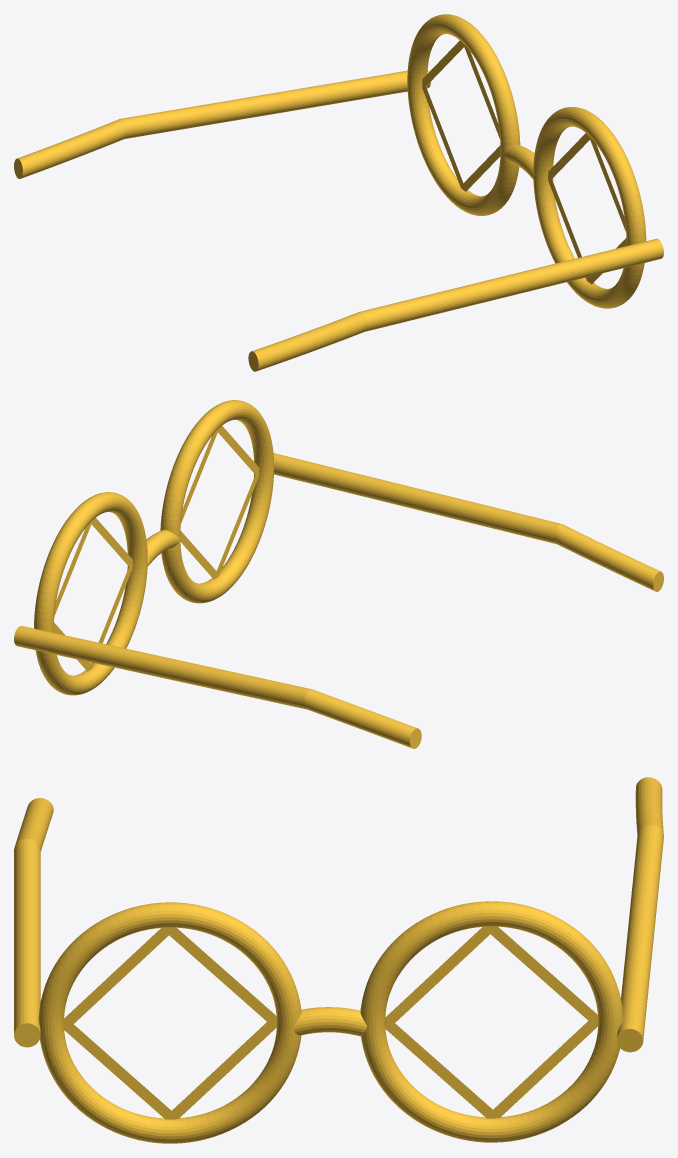
The model's file is glasses.glb.
The picture shows the model from 3 angles, top to bottom: view 1: azimuth 30°, elevation 25°; view 2: azimuth 150°, elevation 25°; view 3: azimuth 270°, elevation 25°; orthographic projection. The views are drawn at different scales.
Visible parts, largest first — view 1: Plane.003; view 2: Plane.003; view 3: Plane.003.
Boxes of the visible parts, x1,y1,x2,y2 form: Plane.003: (14, 14, 663, 371); Plane.003: (14, 400, 663, 748); Plane.003: (14, 777, 663, 1143).
Size of the model in its own units: 0.4496 by 0.1993 by 0.4895.
